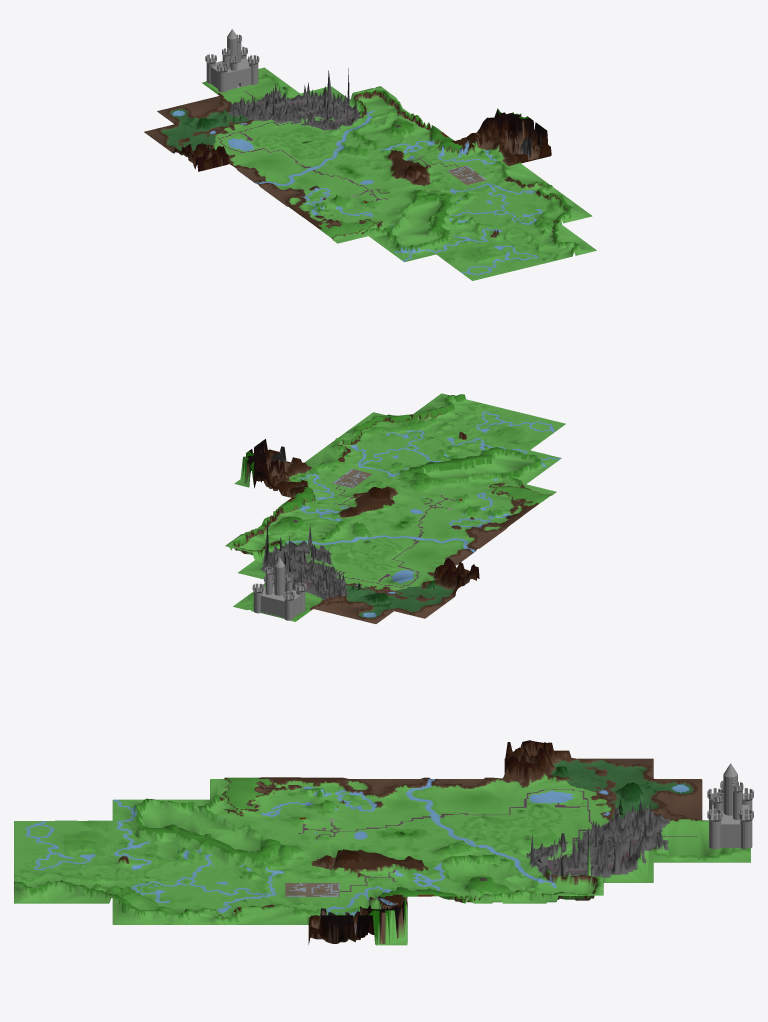
Rendered from skybox_1.obj.
3 renders of one model, top to bottom at view 1: azimuth 30°, elevation 25°; view 2: azimuth 150°, elevation 25°; view 3: azimuth 270°, elevation 25°, orthographic. The views are drawn at different scales.
Visible parts, largest first — view 1: Plane001, default001; view 2: Plane001, default001; view 3: Plane001, default001.
Boxes of the visible parts, <box> form: Plane001: <box>144,67,596,280</box>; default001: <box>205,29,259,92</box>; Plane001: <box>225,393,565,623</box>; default001: <box>252,557,306,620</box>; Plane001: <box>14,740,750,945</box>; default001: <box>707,763,753,849</box>.
Bounding box in the file's own units: 1700 × 186 × 1707.
